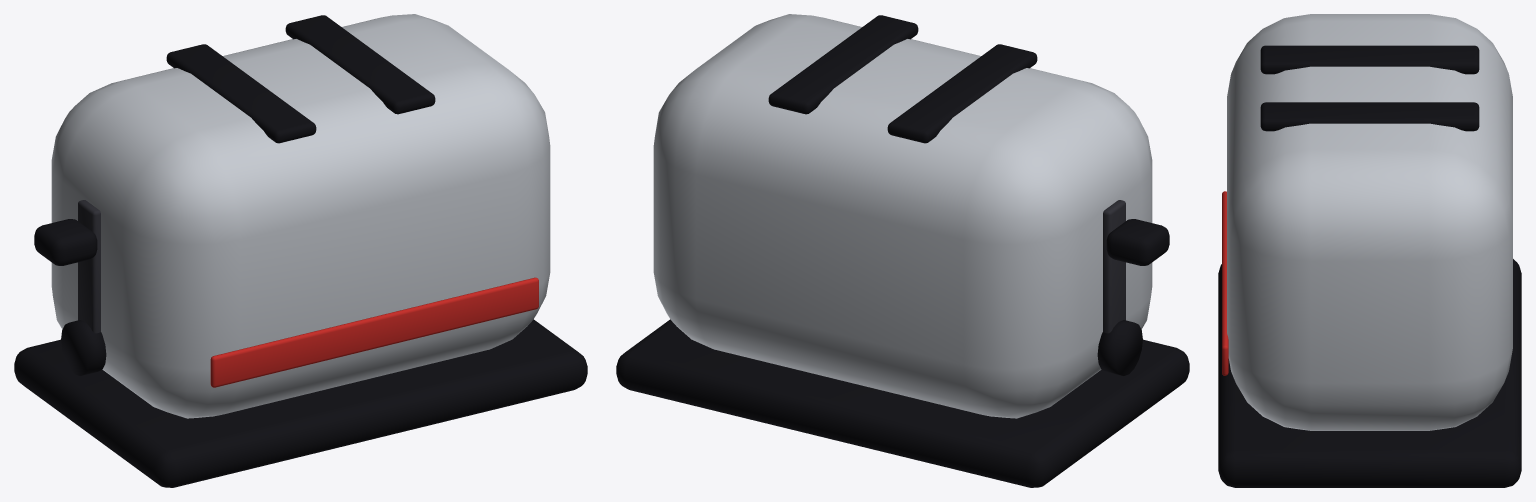
File: toaster.glb
3 renders of one model, left to right at view 1: azimuth 30°, elevation 25°; view 2: azimuth 150°, elevation 25°; view 3: azimuth 270°, elevation 25°, orthographic. The views are drawn at different scales.
Parts seen in each view (by area): view 1: toaster; view 2: toaster; view 3: toaster.
Part boxes in pixels (x1=…): toaster: x1=14, y1=14, x2=587, y2=487; toaster: x1=616, y1=14, x2=1189, y2=487; toaster: x1=1218, y1=14, x2=1521, y2=487.
Size of the model in its own units: 0.318 by 0.202 by 0.18.
